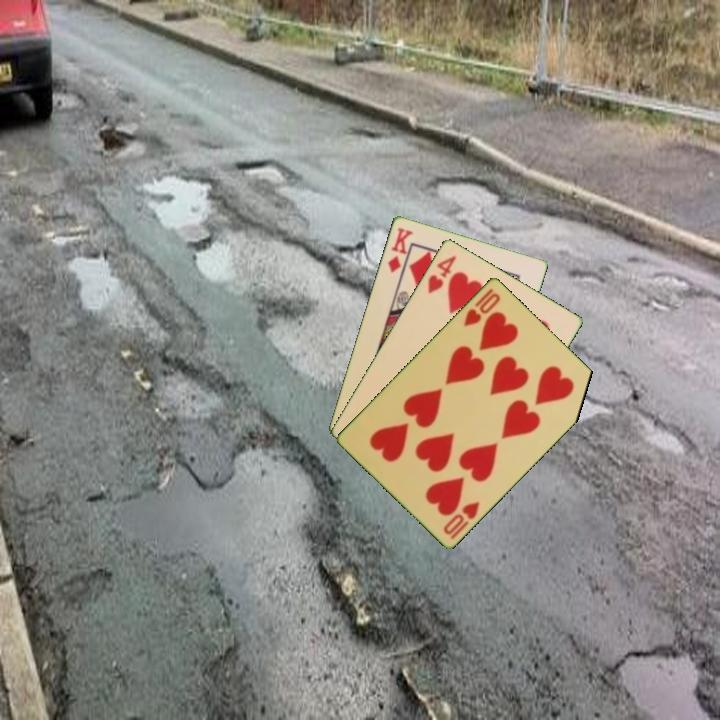10h: (460, 284, 503, 329), (440, 497, 483, 542)
4h: (424, 251, 459, 297)
Kd: (384, 223, 416, 275)
